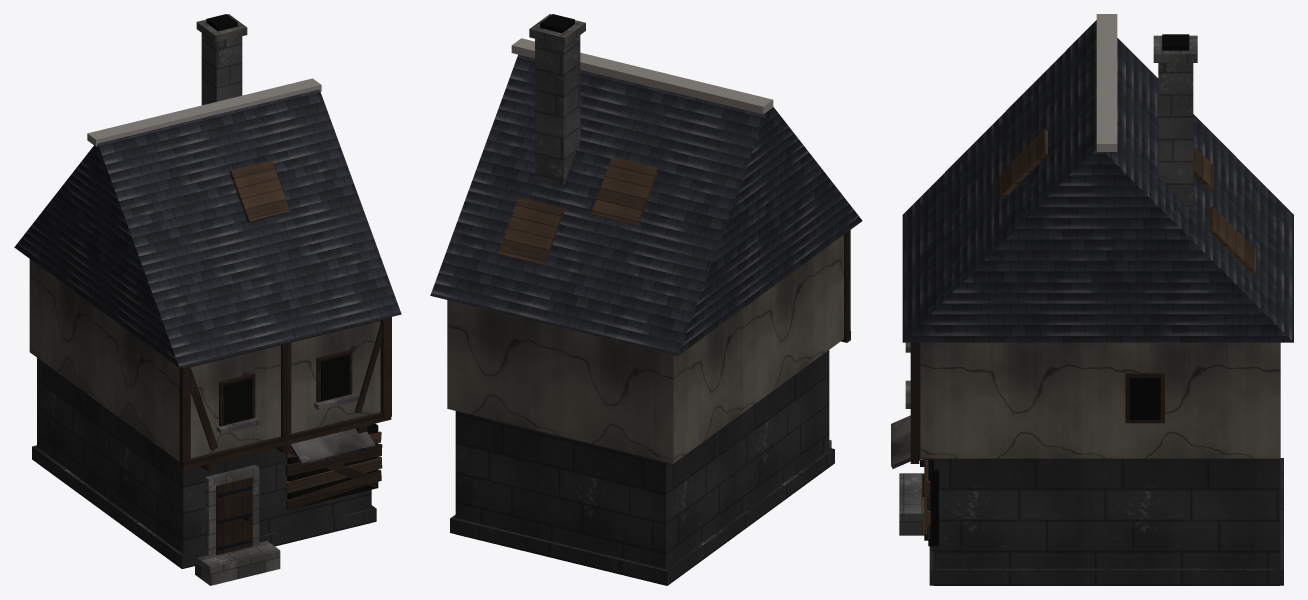
File: CasaS22.gltf
3 views of the same model, side by side, from view 1: azimuth 30°, elevation 25°; view 2: azimuth 150°, elevation 25°; view 3: azimuth 270°, elevation 25° (orthographic). The views are drawn at different scales.
Parts seen in each view (by area): view 1: CasaS22; view 2: CasaS22; view 3: CasaS22.
Part boxes in pixels (x1,y1,x2,y2): CasaS22: [14, 14, 401, 585]; CasaS22: [430, 14, 862, 585]; CasaS22: [891, 14, 1293, 585].
Size of the model in its own units: 6.25 by 11.87 by 8.19.
Materials: 11 (8 with a texture image).
